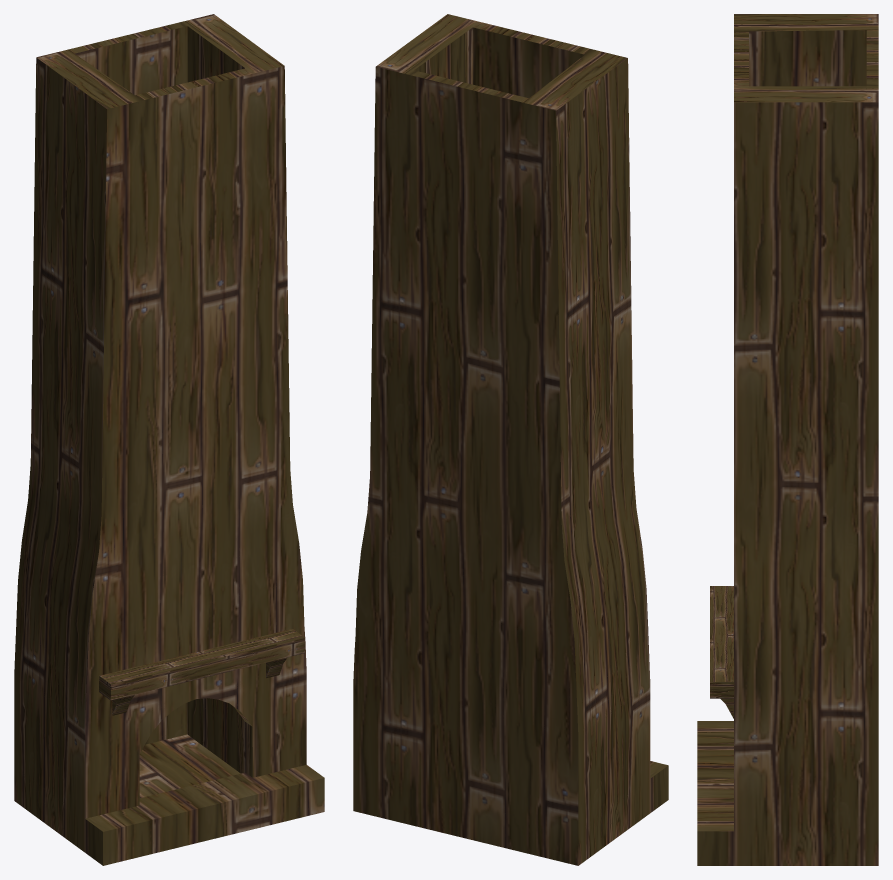
File: fireplace.fbx
3 views of the same model, side by side, from view 1: azimuth 30°, elevation 25°; view 2: azimuth 150°, elevation 25°; view 3: azimuth 270°, elevation 25° (orthographic).
Visible parts, largest first — view 1: fireplace; view 2: fireplace; view 3: fireplace.
Boxes of the visible parts, x1,y1,x2,y2 form: fireplace: [14, 14, 324, 865]; fireplace: [353, 14, 668, 865]; fireplace: [697, 14, 878, 865].
Size of the model in its own units: 183 by 583 by 127.
